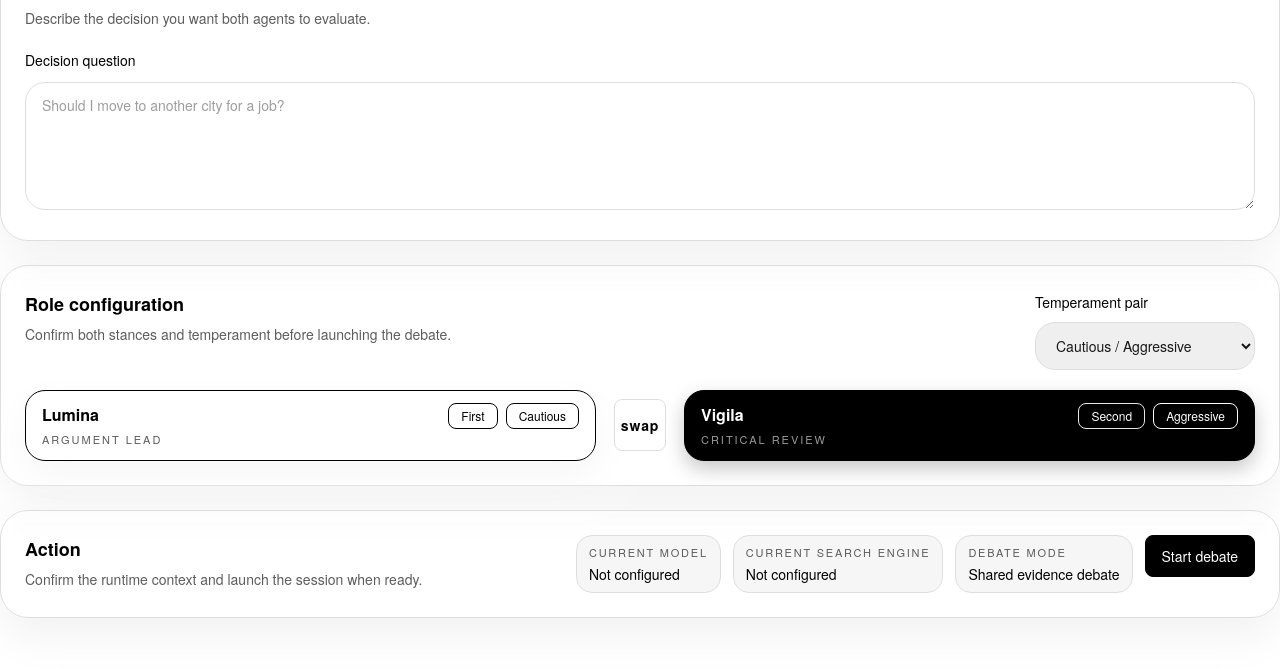
Test case: SessionShell › waits for the previous history write before persisting the next snapshot
Type "Should I move to Shanghai this year?" into the text box labelled "Decision question".
click(640, 146); type("Should I move to Shanghai this year?")  # box [25, 82, 1255, 210]
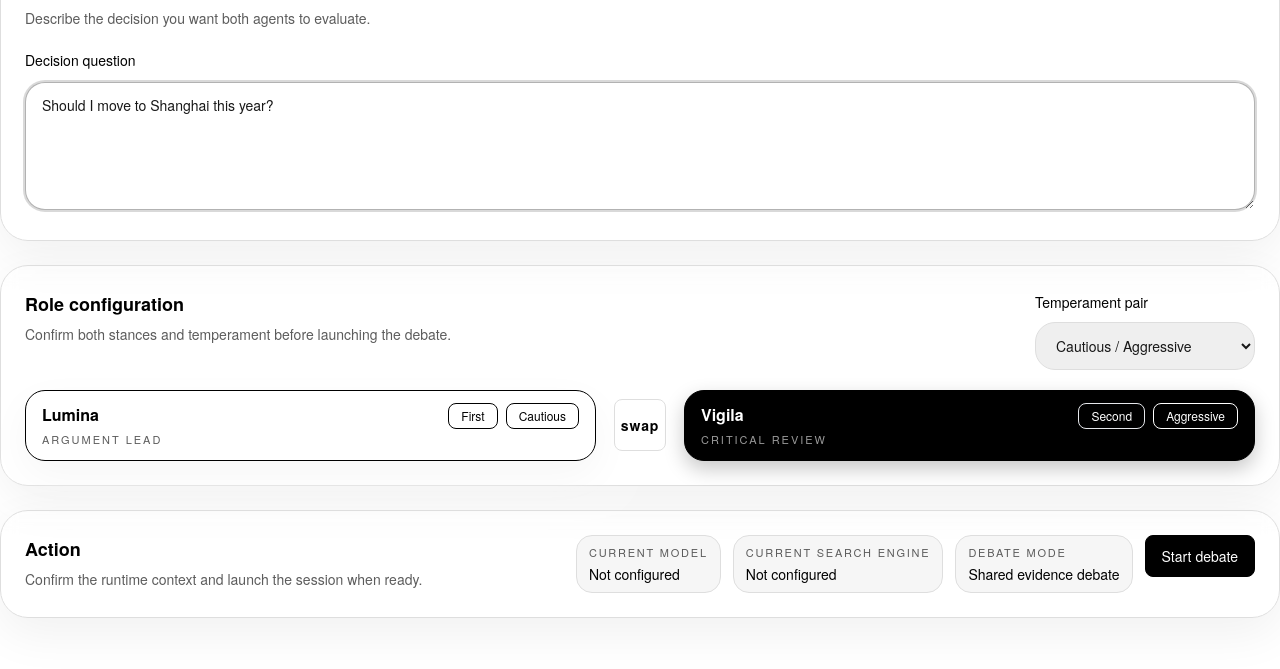
Click the button "Start debate".
click(1200, 556)  # box [1145, 534, 1255, 576]
(page scrolled)
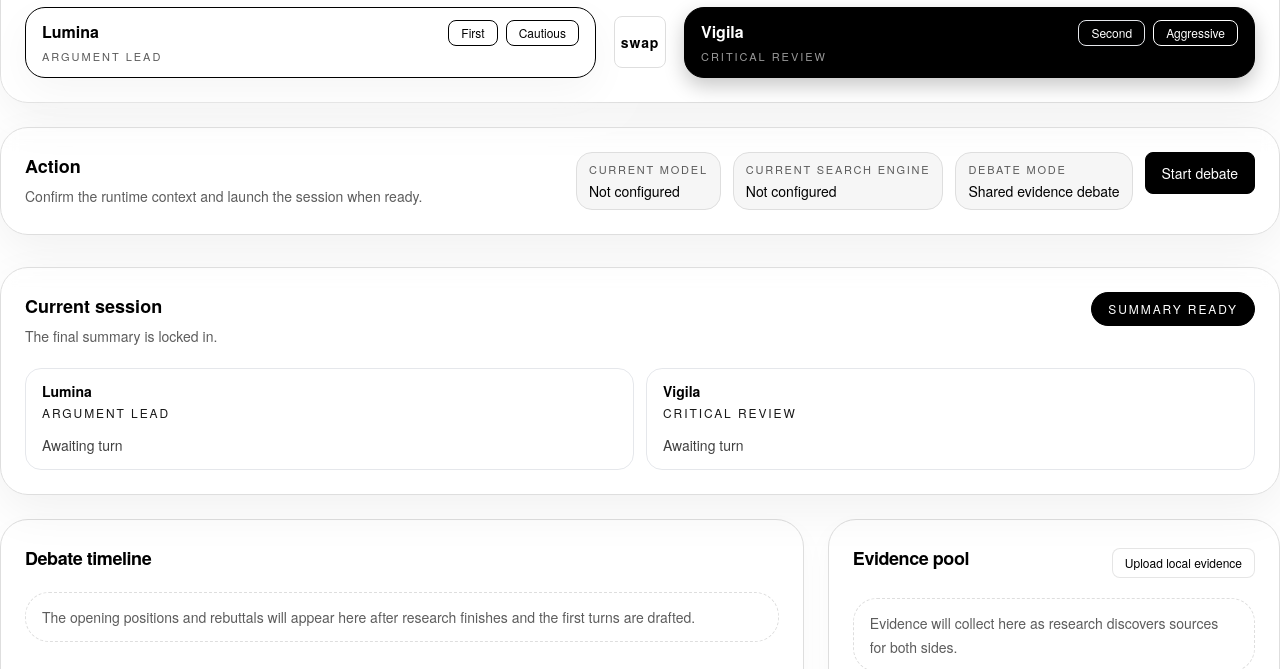
expect the text "Summary ready" is shown: met, box [1091, 292, 1255, 326]
